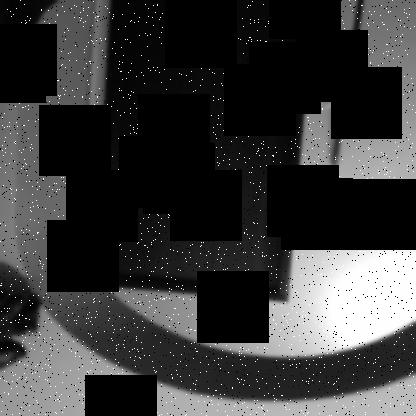Porte: (91, 1, 320, 306)
